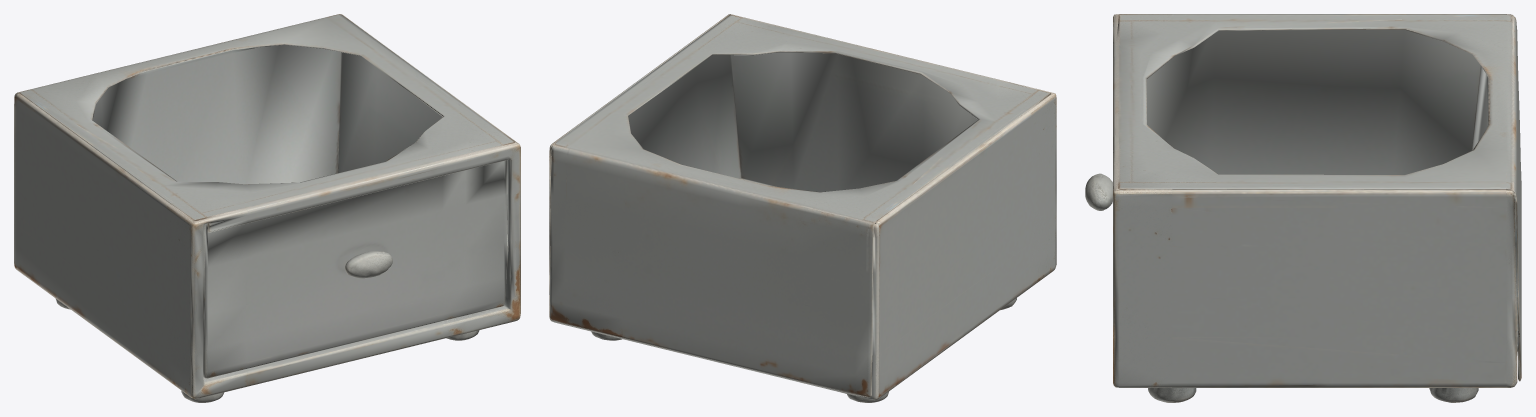
File: CabinetDrawer.fbx
3 renders of one model, left to right at view 1: azimuth 30°, elevation 25°; view 2: azimuth 150°, elevation 25°; view 3: azimuth 270°, elevation 25°, orthographic. The views are drawn at different scales.
Visible parts, largest first — view 1: mesh_node; view 2: mesh_node; view 3: mesh_node.
Boxes of the visible parts, <box> form: mesh_node: <box>14,14,520,402</box>; mesh_node: <box>549,14,1056,402</box>; mesh_node: <box>1085,14,1521,402</box>.
Bounding box in the file's own units: 185 × 109 × 191.
1 material, 1 textured.
